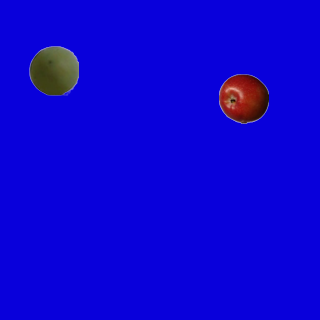Apple Braeburn: (218, 73, 268, 123)
Grape White 4: (28, 45, 78, 95)
